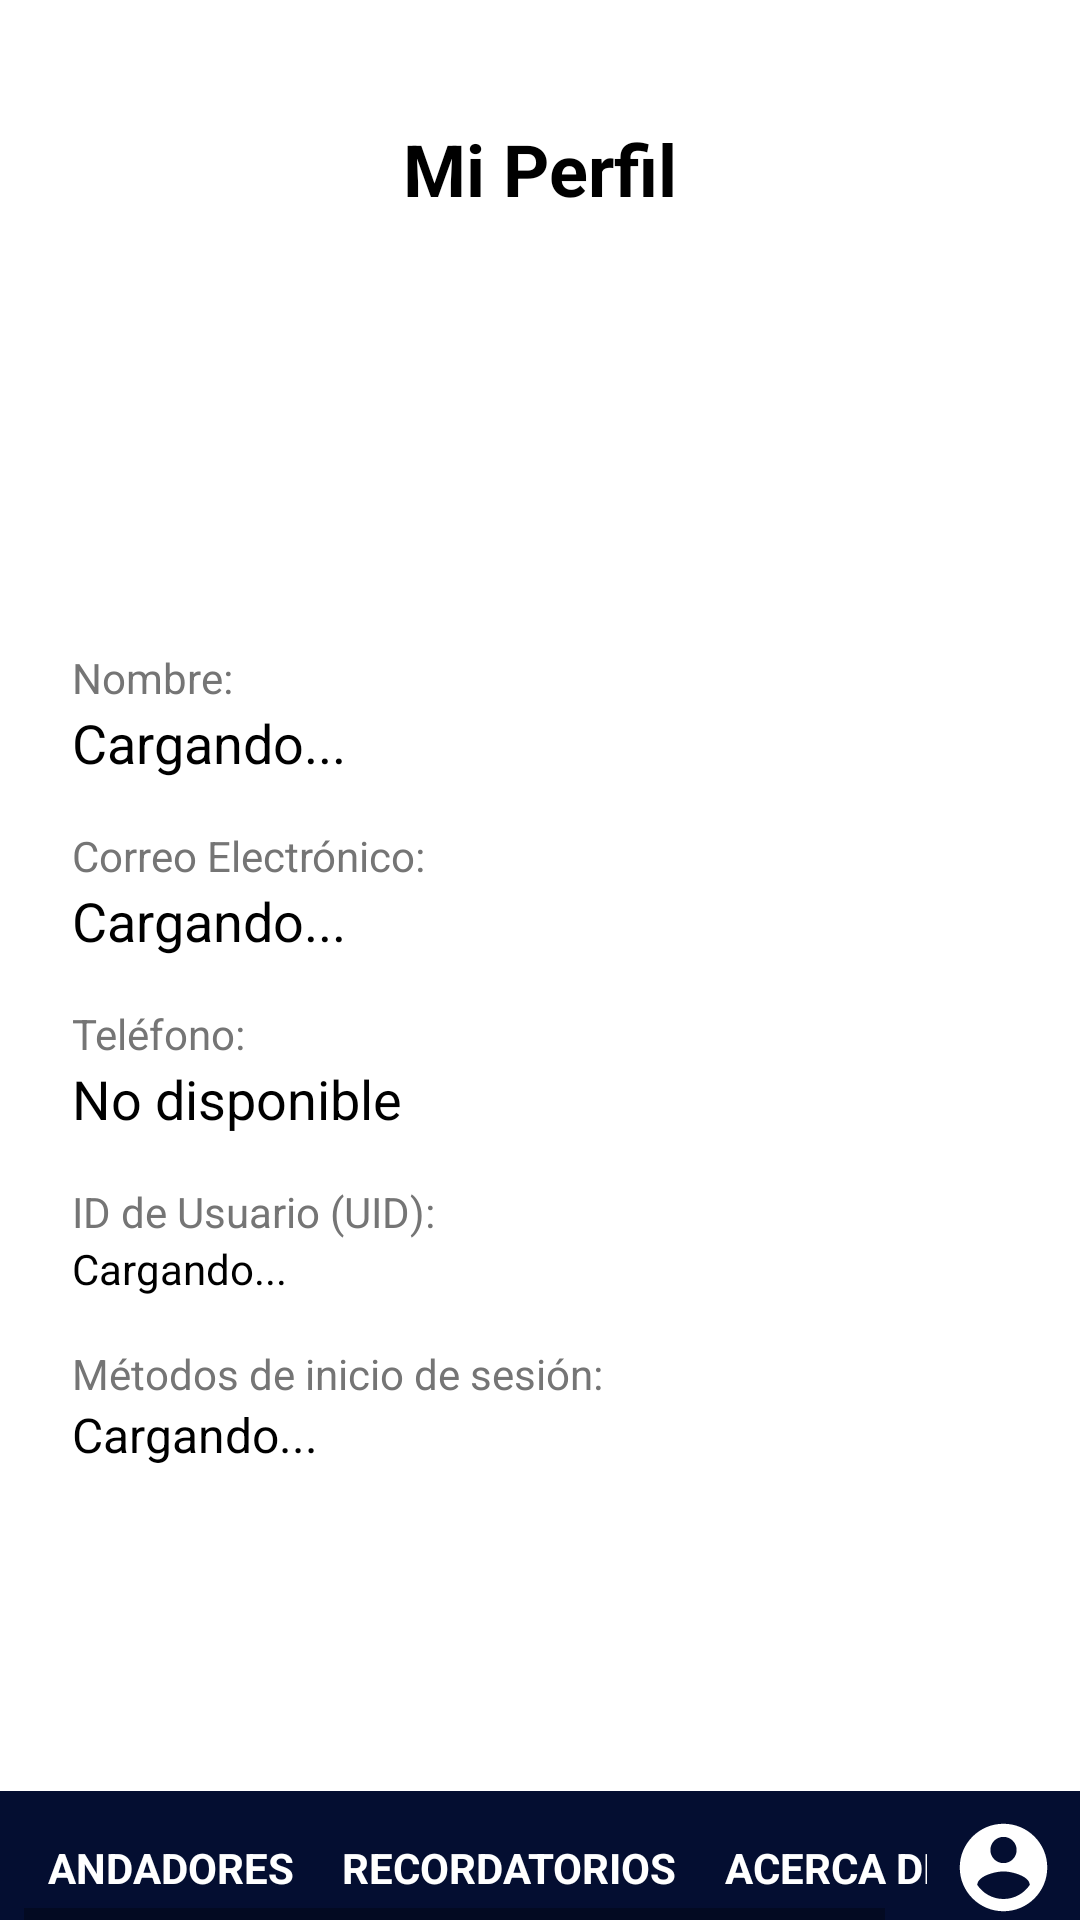

Icons on this 1080 x 1920 Android screen, each with the point to tap as point (x, y):
account circle: point (1003, 1867)
